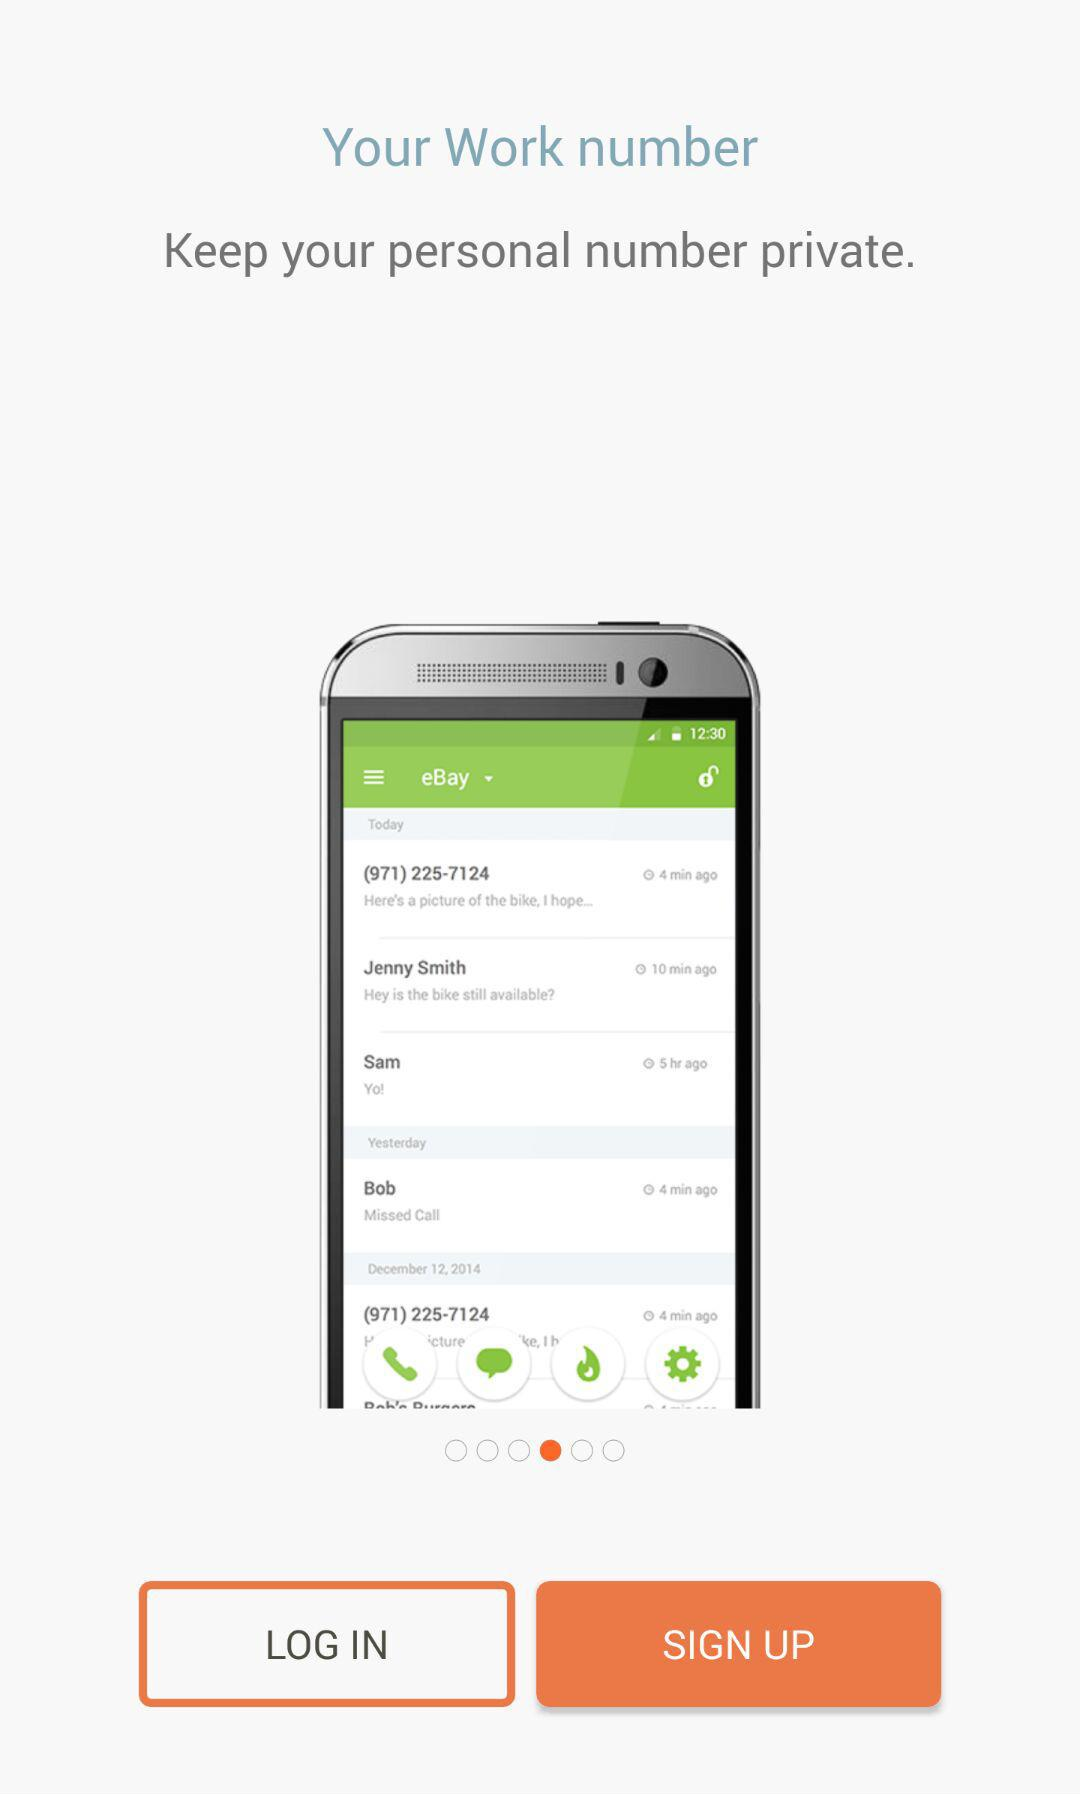Image: (318, 619, 764, 1410)
PageIndicator: (445, 1438, 626, 1463)
Text: (167, 231, 913, 279), (322, 126, 758, 168)
TextButton: (536, 1580, 943, 1708), (138, 1580, 516, 1708)
